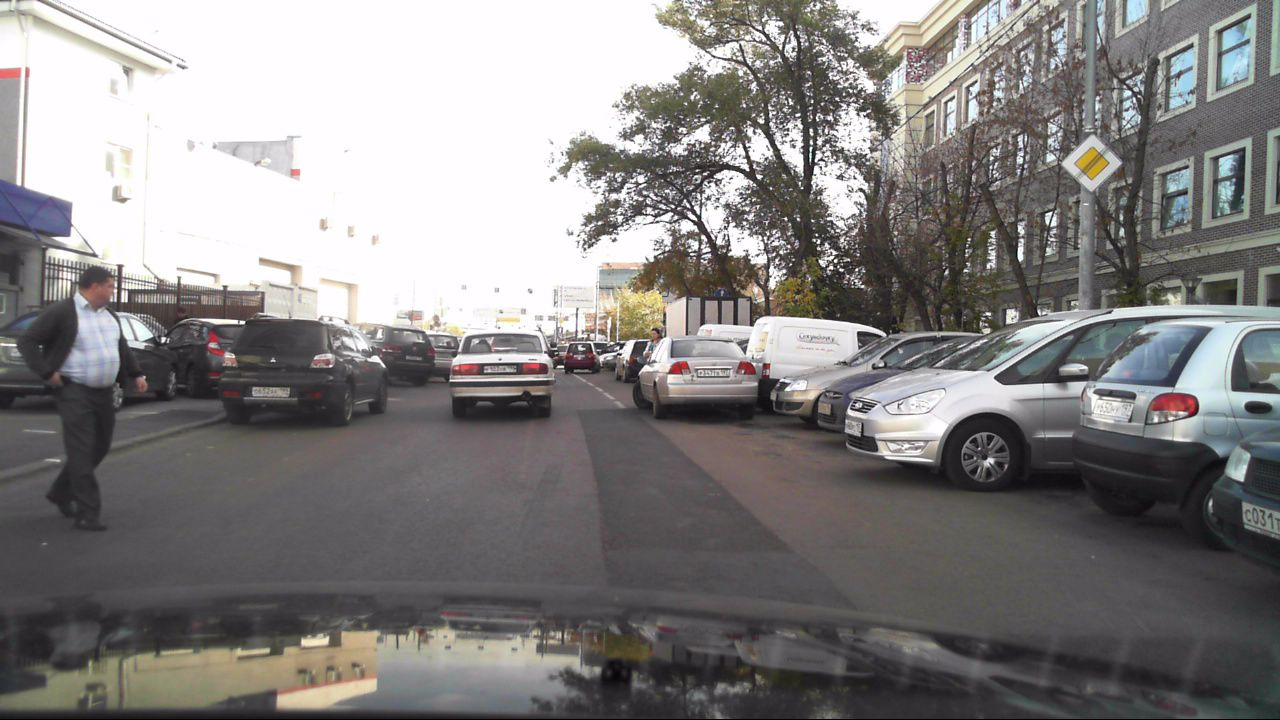main road: (1059, 128, 1122, 195)
